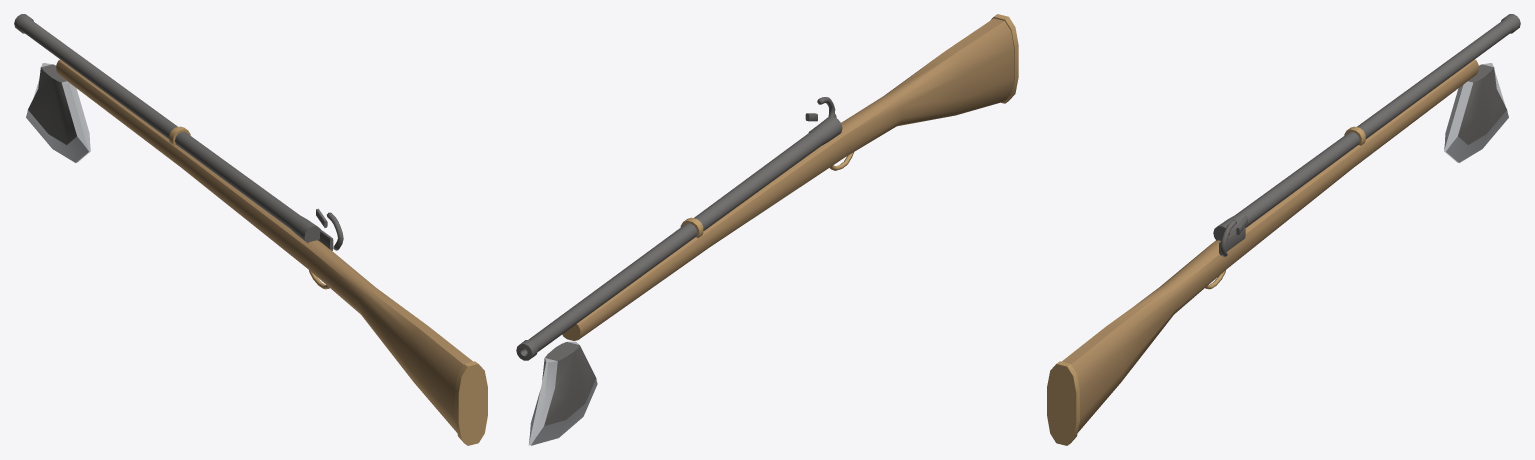
File: axe-musket.glb
3 renders of one model, left to right at view 1: azimuth 30°, elevation 25°; view 2: azimuth 150°, elevation 25°; view 3: azimuth 330°, elevation 25°, orthographic. The views are drawn at different scales.
Visible parts, largest first — view 1: axe-musket; view 2: axe-musket; view 3: axe-musket.
Boxes of the visible parts, x1,y1,x2,y2 form: axe-musket: (14,14,487,445); axe-musket: (516,14,1018,445); axe-musket: (1047,14,1520,445).
Bounding box in the file's own units: 0.1098 × 0.4126 × 2.71.
